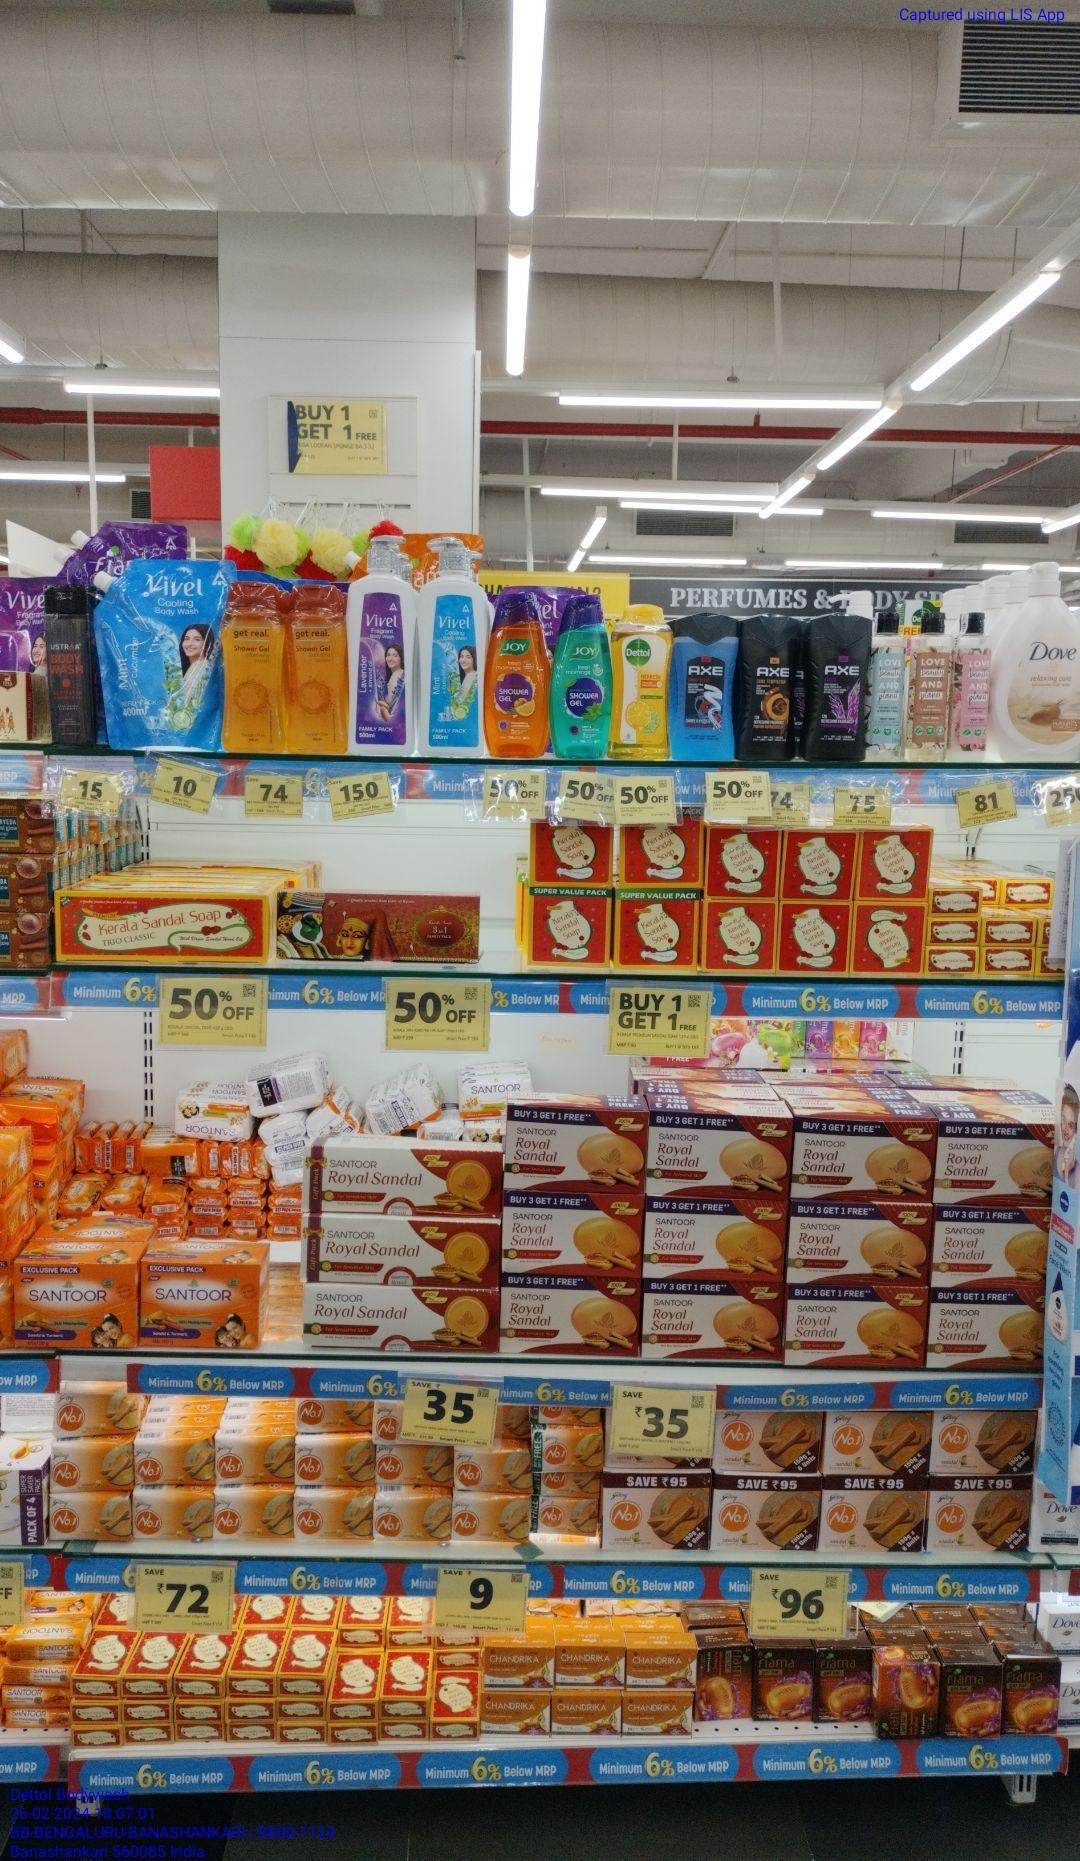Dettol_Bodywash_Refresh: (615, 603, 670, 762)
Get_Real_Shower_Gel_Moisturising_Glycerin_300ML: (220, 582, 284, 753), (288, 580, 350, 754)
Joy_Shower_Gel_Mandarin_and_Lemongrass_250ML: (486, 589, 546, 762)
Joy_Shower_Gel_Mint_and_Eucalyptus_250ML: (555, 592, 609, 760)
